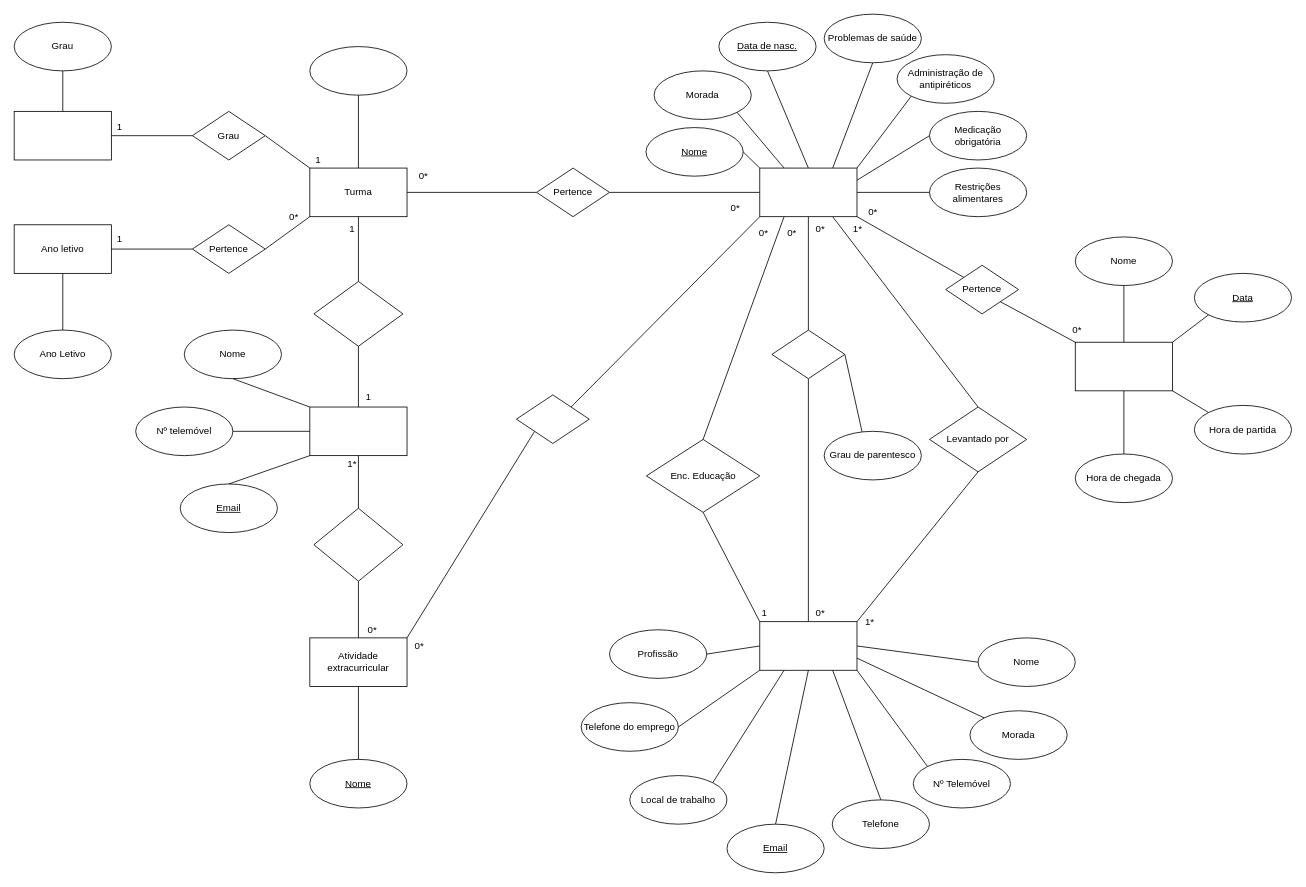
The diagram is 1306 pixels wide and 887 high, and some of its shapes have lost their labels. The shapes that lost their labels are listed below. From the top down, each one's centre as x and y in pixels, then its label:
the point at 358,70: Numero
the point at 62,135: Grau de escolaridade
the point at 808,192: Aluno
the point at 358,313: Lecionada por
the point at 808,354: Parente
the point at 1123,366: Visita de estudo
the point at 358,431: Professor
the point at 552,418: Tem
the point at 358,544: Orientada por
the point at 808,645: Adulto
